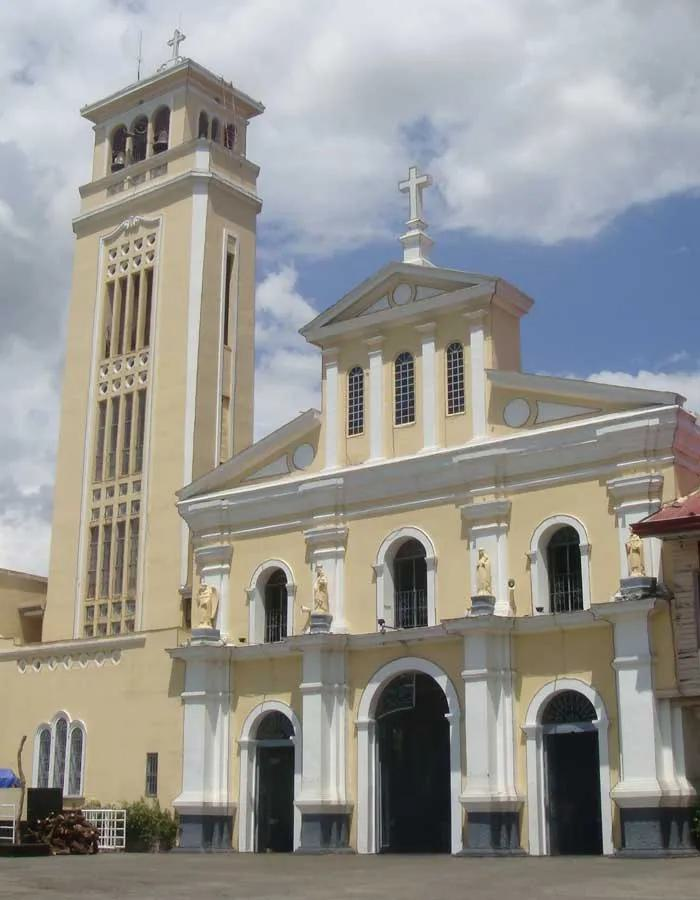manaoag_church_manaoag_pangasinan: (25, 25, 700, 857)
